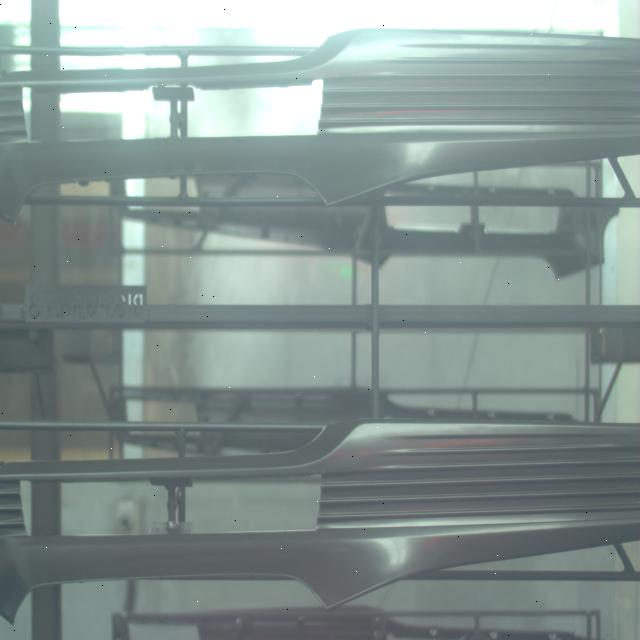Non_primered: (0, 413, 638, 629), (0, 22, 638, 218)
